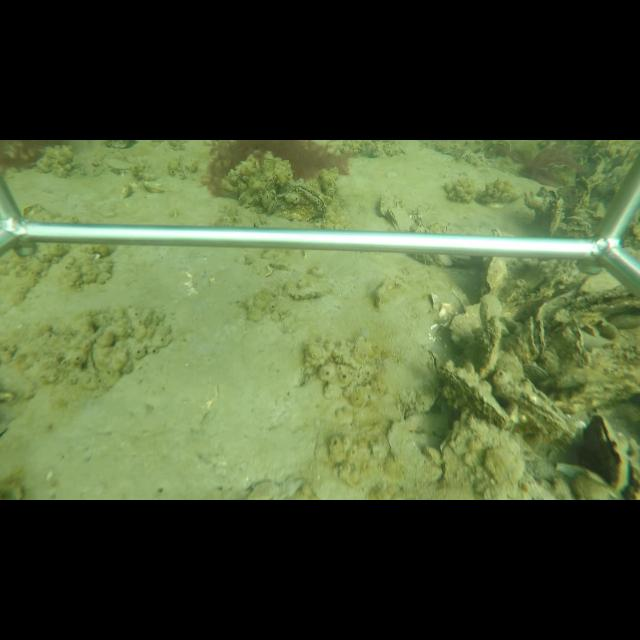Oyster-Closed: (436, 365, 511, 427), (493, 381, 573, 437), (445, 303, 483, 357), (479, 318, 502, 378), (483, 257, 510, 296), (386, 198, 417, 231)
Oyster-Open: (581, 412, 630, 495), (286, 183, 329, 224), (522, 316, 550, 360)
